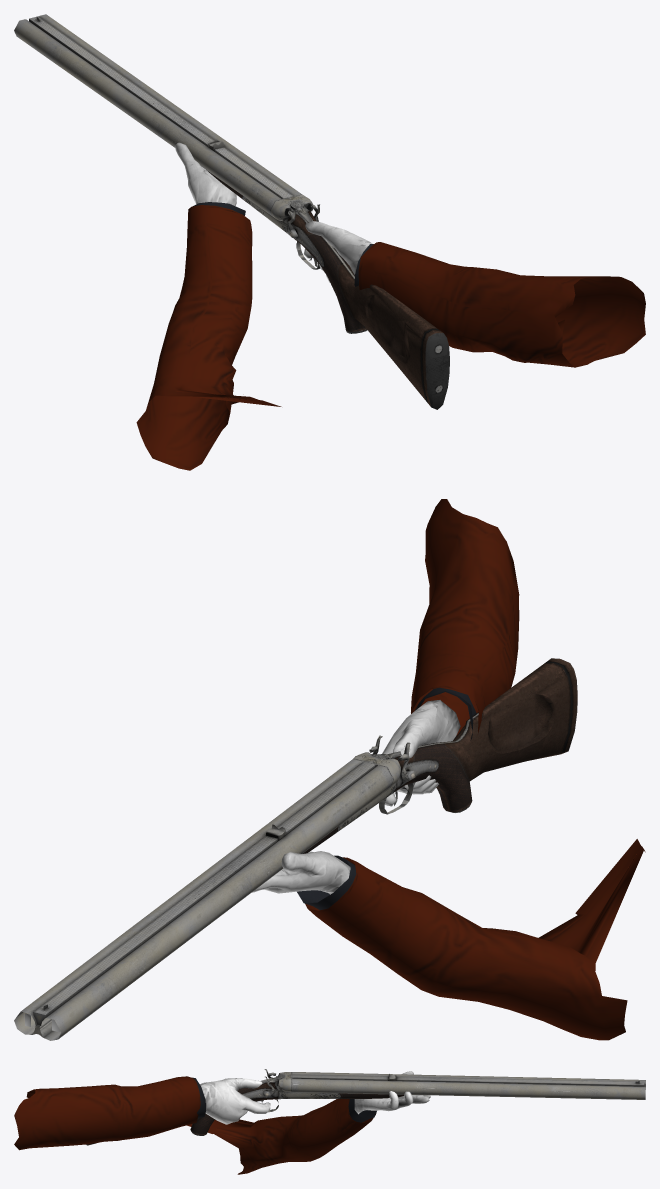
Rendered from frame_1.obj.
The picture shows the model from 3 angles, top to bottom: view 1: azimuth 30°, elevation 25°; view 2: azimuth 150°, elevation 25°; view 3: azimuth 270°, elevation 25°; orthographic projection. The views are drawn at different scales.
Visible parts, largest first — view 1: PlayerModelMerged.001_PlayerModelMerged, double_-_barreled_shotgun_L_double_-_barreled_shotgun_LP_к.002, double_-_barreled_shotgun_L_double_-_barreled_shotgun_LP_к.001; view 2: PlayerModelMerged.001_PlayerModelMerged, double_-_barreled_shotgun_L_double_-_barreled_shotgun_LP_к.002, double_-_barreled_shotgun_L_double_-_barreled_shotgun_LP_к.001; view 3: PlayerModelMerged.001_PlayerModelMerged, double_-_barreled_shotgun_L_double_-_barreled_shotgun_LP_к.002, double_-_barreled_shotgun_L_double_-_barreled_shotgun_LP_к.001.
Part boxes in pixels (x1=…): PlayerModelMerged.001_PlayerModelMerged: x1=136, y1=142, x2=645, y2=470; double_-_barreled_shotgun_L_double_-_barreled_shotgun_LP_к.002: x1=14, y1=14, x2=301, y2=215; double_-_barreled_shotgun_L_double_-_barreled_shotgun_LP_к.001: x1=206, y1=170, x2=449, y2=409; PlayerModelMerged.001_PlayerModelMerged: x1=252, y1=499, x2=645, y2=1040; double_-_barreled_shotgun_L_double_-_barreled_shotgun_LP_к.002: x1=14, y1=759, x2=392, y2=1040; double_-_barreled_shotgun_L_double_-_barreled_shotgun_LP_к.001: x1=303, y1=658, x2=577, y2=853; PlayerModelMerged.001_PlayerModelMerged: x1=14, y1=1071, x2=430, y2=1174; double_-_barreled_shotgun_L_double_-_barreled_shotgun_LP_к.002: x1=292, y1=1072, x2=645, y2=1099; double_-_barreled_shotgun_L_double_-_barreled_shotgun_LP_к.001: x1=86, y1=1069, x2=403, y2=1145.
Bounding box in the file's own units: 0.8331 × 0.5773 × 2.
